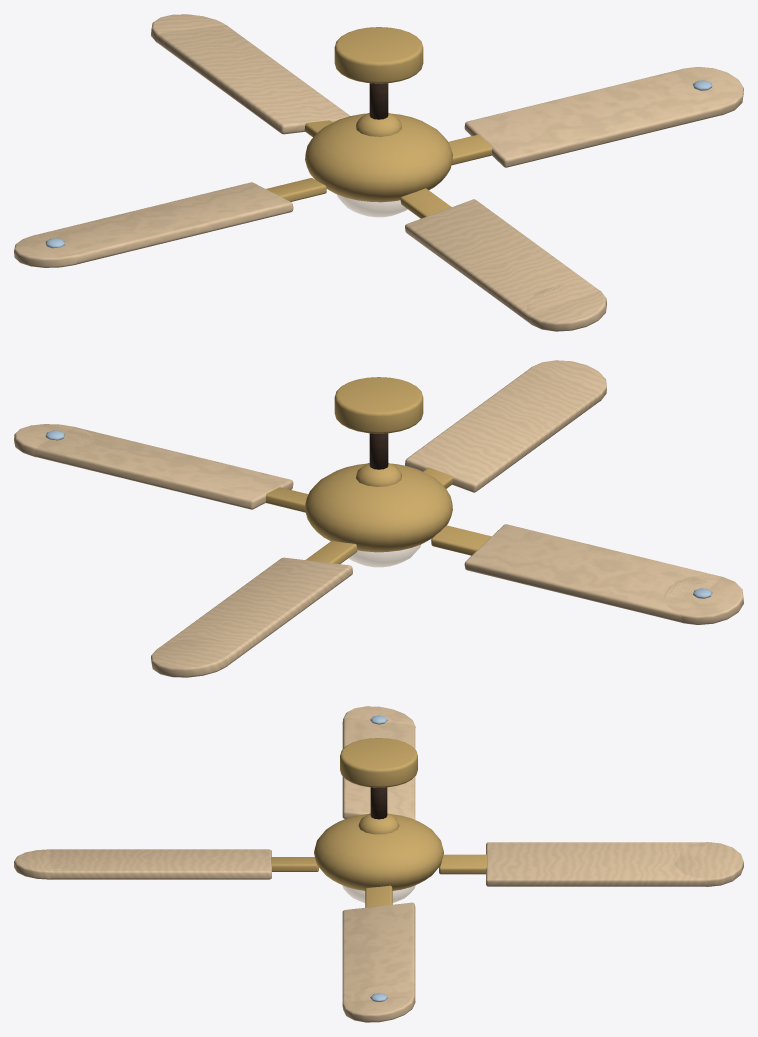
The model's file is trumua-ceiling-fan.glb.
3 views of the same model, one above another, from view 1: azimuth 30°, elevation 25°; view 2: azimuth 150°, elevation 25°; view 3: azimuth 270°, elevation 25° (orthographic). The views are drawn at different scales.
Parts seen in each view (by area): view 1: blades, trumua-ceiling-fan; view 2: blades, trumua-ceiling-fan; view 3: blades, trumua-ceiling-fan.
Part boxes in pixels (x1,y1,x2,y2): blades: (14, 14, 743, 331); trumua-ceiling-fan: (305, 27, 452, 217); blades: (14, 360, 743, 677); trumua-ceiling-fan: (305, 377, 452, 567); blades: (14, 706, 743, 1022); trumua-ceiling-fan: (314, 738, 443, 902).
Bounding box in the file's own units: 1.4 × 0.31 × 1.4.
Materials: 2 (2 with a texture image).
